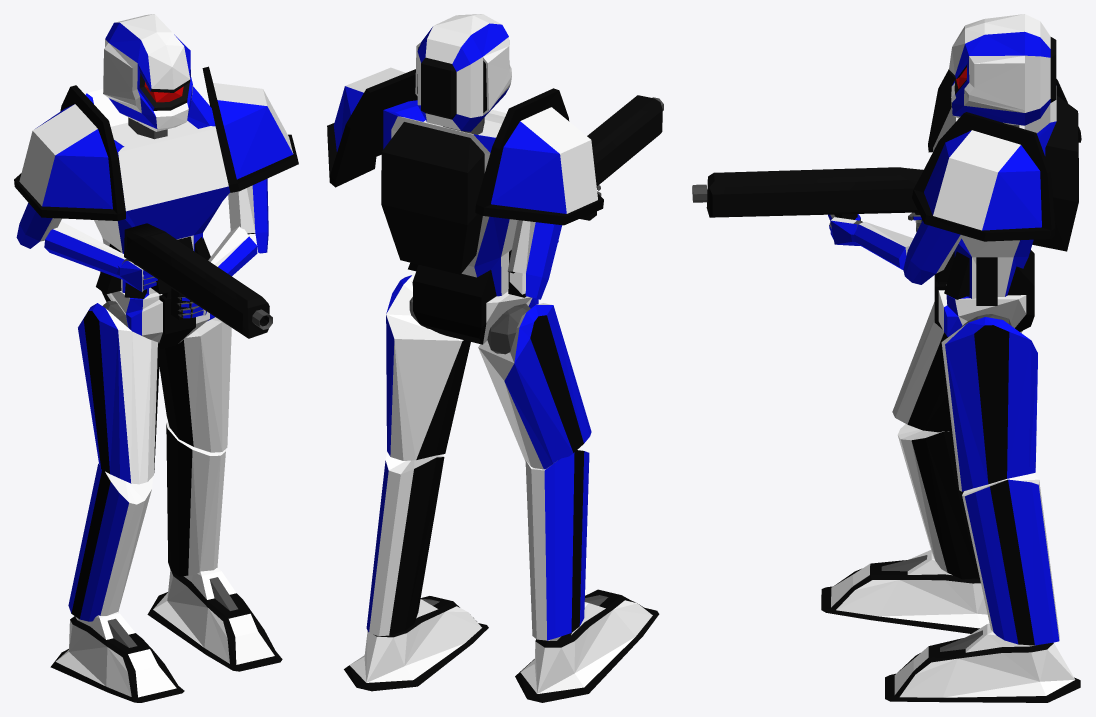
Rendered from robot_animation_000017.obj.
3 views of the same model, side by side, from view 1: azimuth 30°, elevation 25°; view 2: azimuth 150°, elevation 25°; view 3: azimuth 270°, elevation 25° (orthographic). The views are drawn at different scales.
Visible parts, largest first — view 1: Chest_plate_Cube.004, R_Thigh_Cube.005, Cube.002_Cube.059, Head_base_Cube.022, R_Shin_Cube.007, R_Foot.002_Cube.035, R_Thigh.002_Cube.027, Cube_Cube.001, R_Shin.002_Cube.029, R_Foot_Cube, Cube_Cube.021, Pelvis_Cube.006 (+5 smaller); view 2: Chest_plate_Cube.004, Cube.002_Cube.059, R_Thigh_Cube.005, R_Thigh.002_Cube.027, R_Shin_Cube.007, R_Shin.002_Cube.029, Head_base_Cube.022, R_Foot_Cube, R_Foot.002_Cube.035, Cube_Cube.021, Pelvis_Cube.006, Cube_Cube.001 (+2 smaller); view 3: Cube_Cube.021, R_Thigh.002_Cube.027, R_Shin.002_Cube.029, R_Foot.002_Cube.035, Head_base_Cube.022, Cube_Cube.001, Chest_plate_Cube.004, R_Foot_Cube, R_Shin_Cube.007, R_Thigh_Cube.005, Pelvis_Cube.006, L_Arm_Cube.014 (+3 smaller).
Part boxes in pixels (box(x1,y1,x2,y2)): Chest_plate_Cube.004: box(85, 86, 229, 298); R_Thigh_Cube.005: box(78, 303, 160, 484); Cube.002_Cube.059: box(14, 85, 125, 220); Head_base_Cube.022: box(103, 14, 193, 131); R_Shin_Cube.007: box(68, 463, 153, 621); R_Foot.002_Cube.035: box(147, 568, 282, 671); R_Thigh.002_Cube.027: box(159, 317, 231, 452); Cube_Cube.001: box(124, 223, 272, 338); R_Shin.002_Cube.029: box(166, 422, 225, 576); R_Foot_Cube: box(50, 612, 184, 702); Cube_Cube.021: box(202, 66, 298, 192); Pelvis_Cube.006: box(100, 272, 214, 349); Chest_plate_Cube.004: box(381, 100, 526, 297); Cube.002_Cube.059: box(475, 88, 603, 225); R_Thigh_Cube.005: box(478, 303, 591, 469); R_Thigh.002_Cube.027: box(386, 274, 470, 460); R_Shin_Cube.007: box(525, 450, 589, 640); R_Shin.002_Cube.029: box(366, 452, 444, 636); Head_base_Cube.022: box(415, 14, 511, 131); R_Foot_Cube: box(515, 589, 659, 702); R_Foot.002_Cube.035: box(344, 596, 488, 691); Cube_Cube.021: box(327, 67, 417, 187); Pelvis_Cube.006: box(411, 265, 538, 344); Cube_Cube.001: box(580, 95, 663, 220); Cube_Cube.021: box(912, 112, 1055, 241); R_Thigh.002_Cube.027: box(941, 317, 1037, 491); R_Shin.002_Cube.029: box(962, 473, 1059, 645); R_Foot.002_Cube.035: box(885, 623, 1080, 702); Head_base_Cube.022: box(949, 14, 1056, 125); Cube_Cube.001: box(692, 167, 923, 221); Chest_plate_Cube.004: box(933, 85, 1078, 305); R_Foot_Cube: box(821, 550, 989, 633); R_Shin_Cube.007: box(897, 424, 979, 579); R_Thigh_Cube.005: box(892, 302, 1022, 432); Pelvis_Cube.006: box(934, 250, 1034, 336); L_Arm_Cube.014: box(903, 220, 962, 284).
Size of the model in its own units: 1.32 by 3.04 by 1.68.
